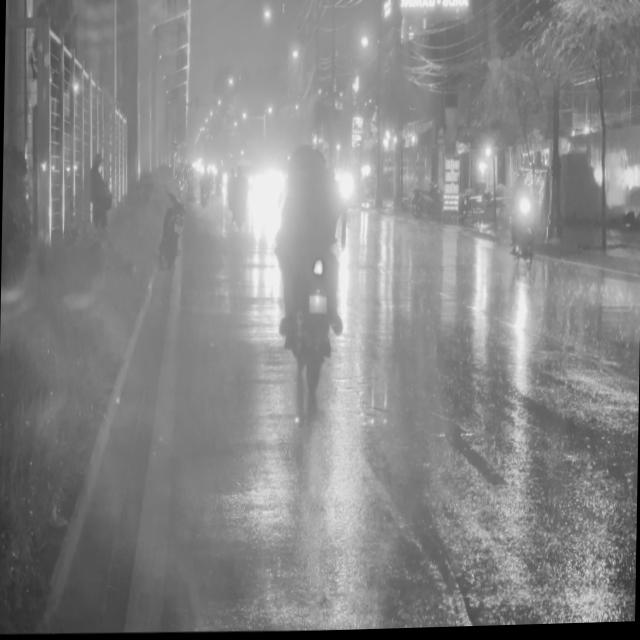nohelmet: (308, 294, 326, 313)
